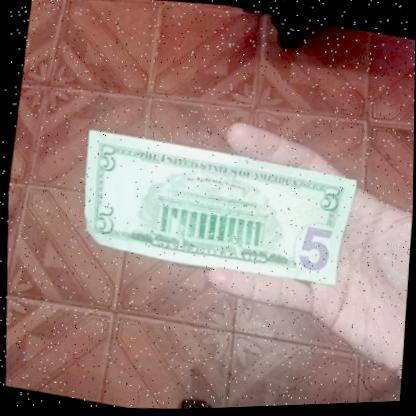five-back: (64, 117, 367, 301)
